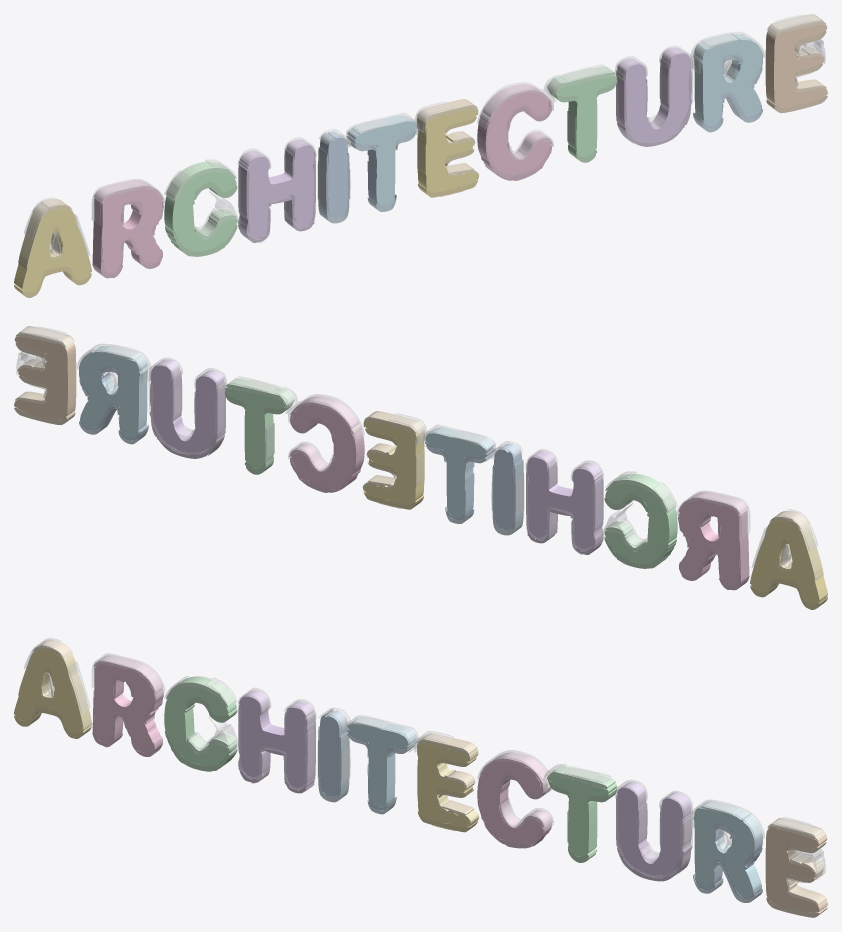
3 views of the same model, one above another, from view 1: azimuth 30°, elevation 25°; view 2: azimuth 150°, elevation 25°; view 3: azimuth 330°, elevation 25° (orthographic).
Parts seen in each view (by area): view 1: Node5, Node1, Node2, Node3, Node34, Node7, Node9, Node8, Node4, Node6, Node10, Node35 (+20 smaller); view 2: Node5, Node2, Node1, Node3, Node34, Node7, Node9, Node8, Node4, Node6, Node10, Node35 (+20 smaller); view 3: Node1, Node2, Node5, Node3, Node7, Node34, Node9, Node6, Node4, Node8, Node10, Node35 (+20 smaller).
Part boxes in pixels (x1,y1,x2,y2): Node5: (693,33,762,126); Node1: (239,139,314,236); Node2: (617,47,691,140); Node3: (94,188,162,272); Node34: (765,24,827,107); Node7: (14,208,90,292); Node9: (164,172,237,251); Node8: (417,109,477,192); Node4: (487,92,550,174); Node6: (347,115,416,205); Node10: (548,75,616,156); Node35: (320,131,347,218); Node5: (79,345,148,438); Node2: (150,359,224,452); Node1: (527,451,602,548); Node3: (679,500,747,584); Node34: (14,336,76,419); Node7: (751,520,827,604); Node9: (604,484,677,563); Node8: (364,421,424,504); Node4: (291,404,354,486); Node6: (425,427,494,517); Node10: (225,387,293,468); Node35: (494,443,521,530); Node1: (239,690,313,787); Node2: (617,782,691,875); Node5: (693,802,762,897); Node3: (94,664,162,751); Node7: (14,650,83,734); Node34: (765,827,827,912); Node9: (164,686,237,765); Node6: (347,718,416,807); Node4: (478,761,548,842); Node8: (417,743,469,827); Node10: (548,775,616,856); Node35: (320,709,347,796).
Size of what is drawn, in the model's own units: 277 by 29.64 by 5.
